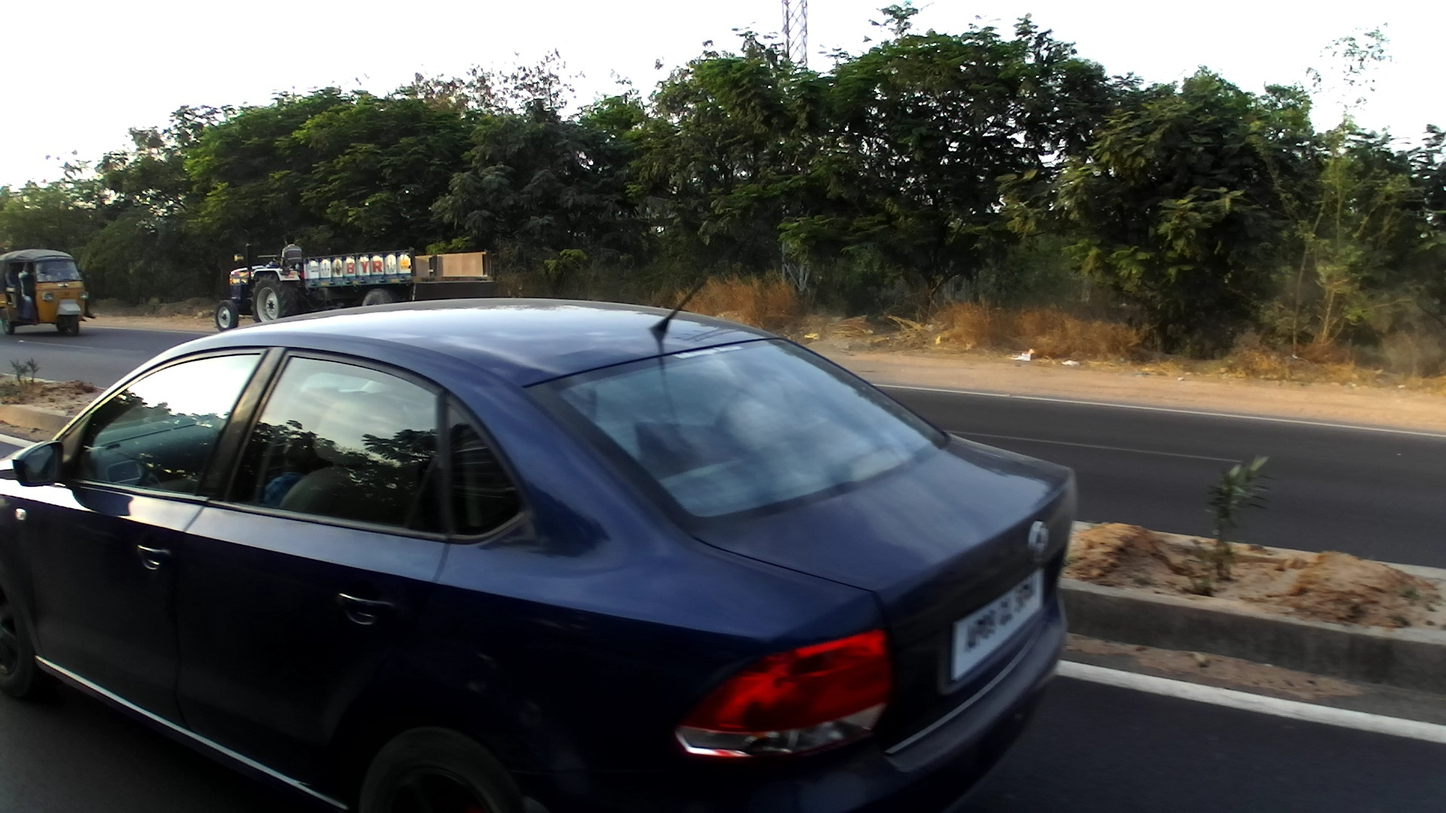autorickshaw: (2, 247, 94, 340)
car: (1, 277, 1075, 813)
vehicle fallback: (217, 227, 493, 361)
